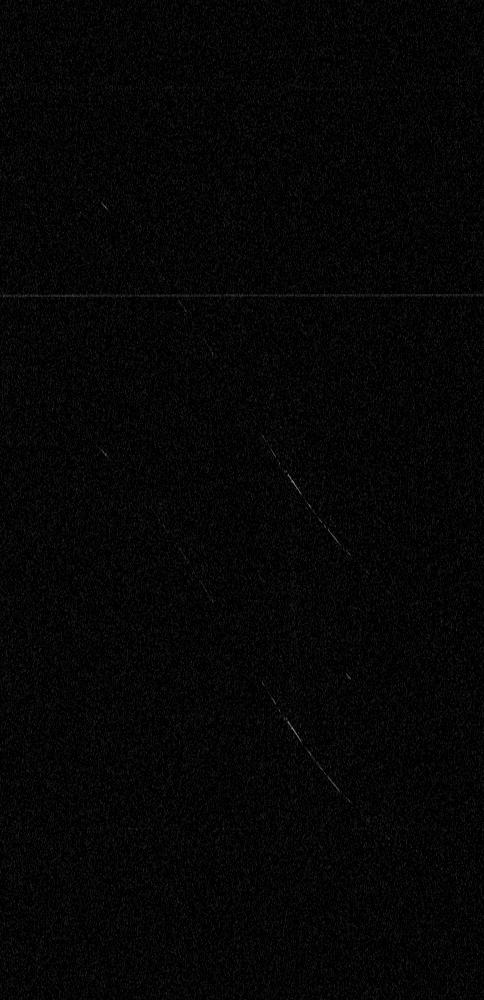signal: (0, 0, 483, 999)
